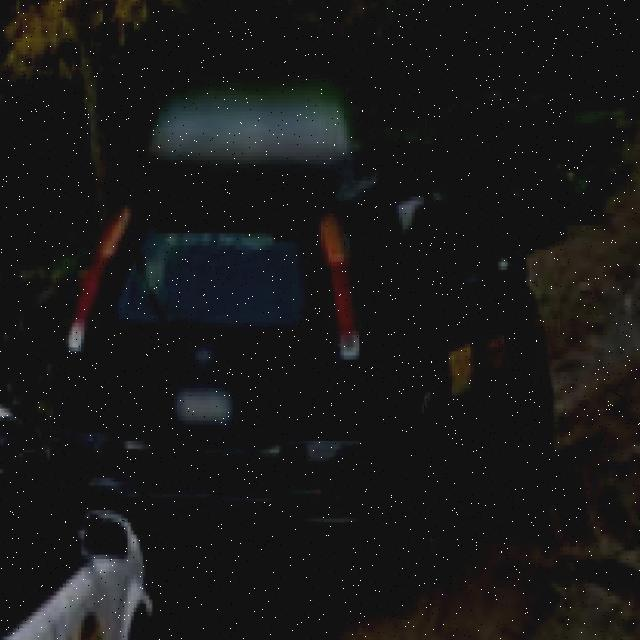car: (55, 122, 547, 562)
